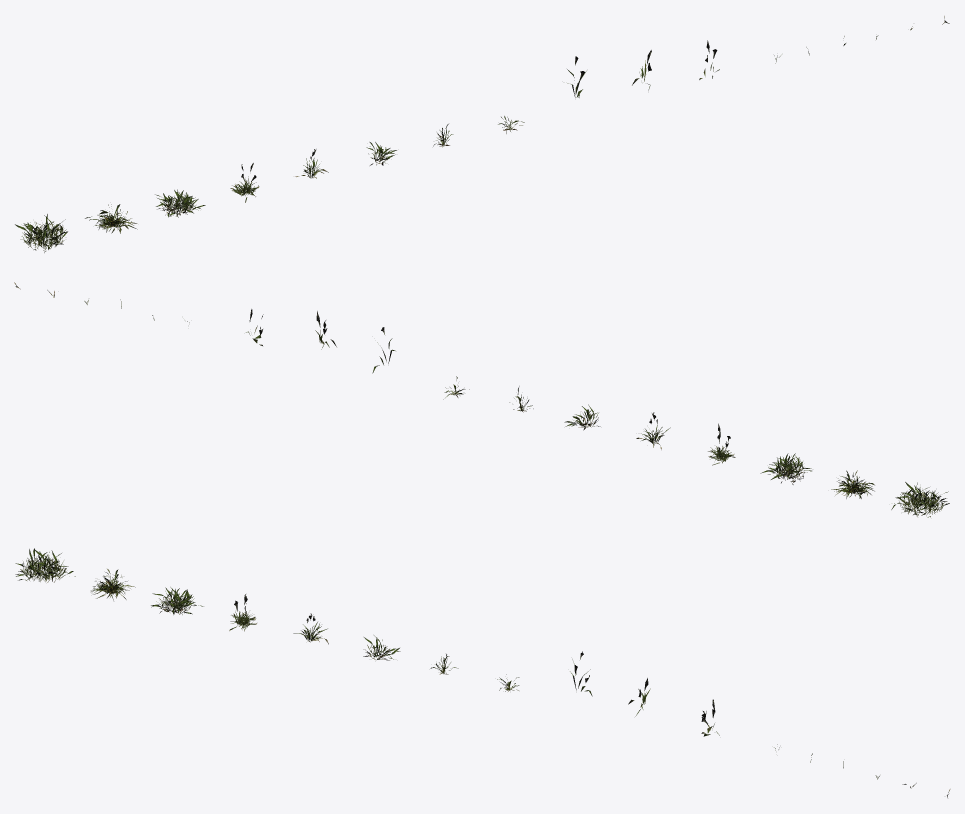
Rendered from grass.glb.
3 views of the same model, one above another, from view 1: azimuth 30°, elevation 25°; view 2: azimuth 150°, elevation 25°; view 3: azimuth 330°, elevation 25° (orthographic).
Visible parts, largest first — view 1: grass_medium_01_large_a_LOD0, grass_medium_01_large_c_LOD0, grass_medium_01_large_b_LOD0; view 2: grass_medium_01_large_a_LOD0, grass_medium_01_large_c_LOD0, grass_medium_01_large_b_LOD0; view 3: grass_medium_01_large_a_LOD0, grass_medium_01_large_c_LOD0.
Boxes of the visible parts, x1,y1,x2,y2 form: grass_medium_01_large_a_LOD0: [15, 214, 67, 252]; grass_medium_01_large_c_LOD0: [155, 189, 205, 217]; grass_medium_01_large_b_LOD0: [85, 204, 137, 233]; grass_medium_01_large_a_LOD0: [891, 482, 949, 517]; grass_medium_01_large_c_LOD0: [760, 453, 811, 484]; grass_medium_01_large_b_LOD0: [831, 470, 874, 498]; grass_medium_01_large_a_LOD0: [15, 548, 75, 582]; grass_medium_01_large_c_LOD0: [151, 587, 203, 614].
Bounding box in the file's own units: 5.59 × 0.3301 × 0.3266.
1 material, 1 textured.
